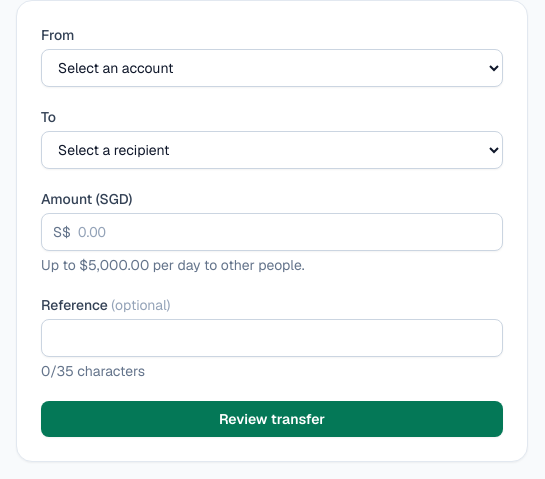
Test case: <TransferFlow /> › blocks amounts above the available balance
The image size is (545, 479).
Select "Travel Goal (•••• 1532) · $4,300.00" in the dropdown labelled "From": [272, 68] box [41,49,503,87]
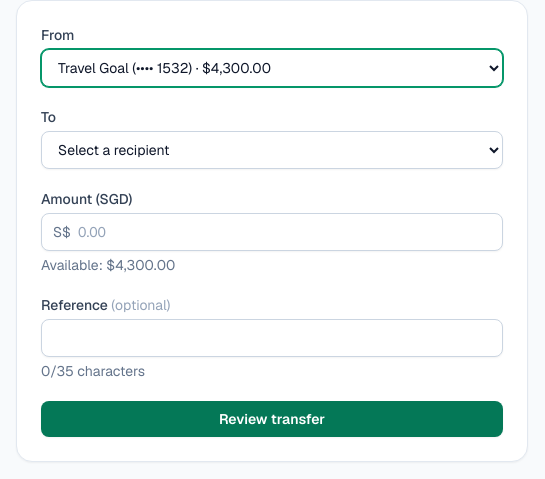
Select "Everyday Current (•••• 5678)" in the dropdown labelled "To": [272, 150] box [41,131,503,169]
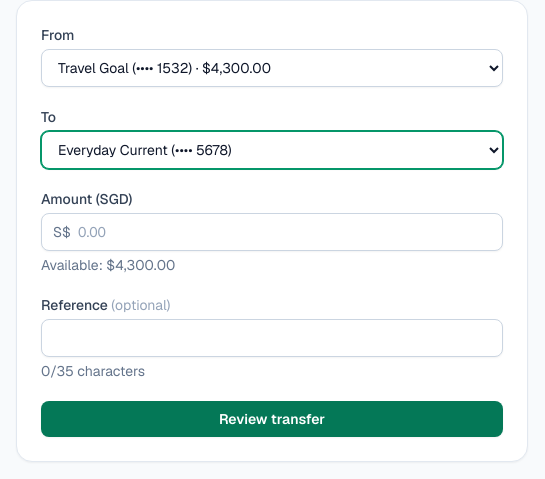
In the field labelled "Amount (SGD)": [272, 232] box [41,213,503,251], type "999999"
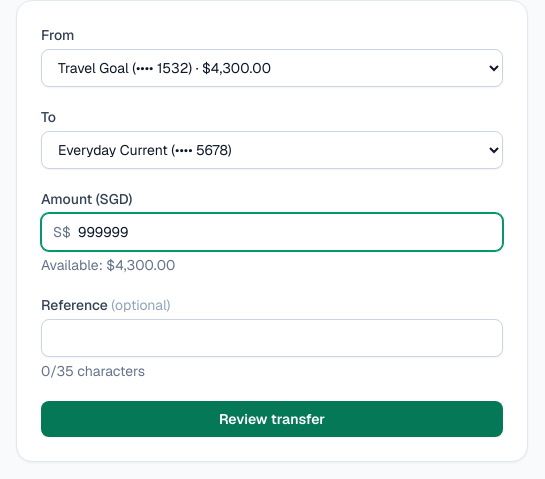
Click the button "Review transfer": [272, 419] box [41,401,503,437]
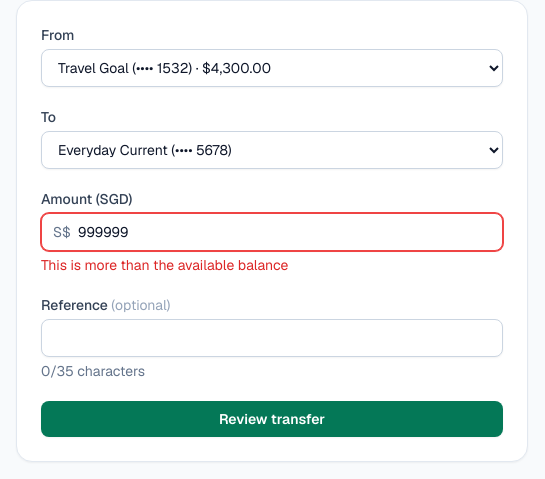
Expected: the text "This is more than the available balance" is shown, [41,256,288,274]
